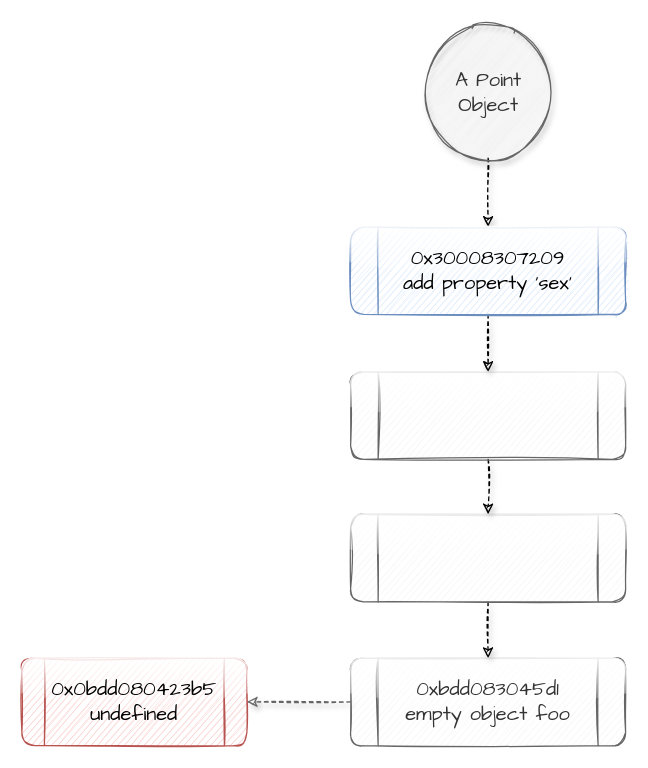
Some shapes in this 648 by 768 pixel diagram are drawn without their labels. The centre of each missing label's shape, as x and y in pixels:
0x300083071b9 add property 'name': the point at 487,557
0x300083071e1 add property 'age': the point at 487,415
